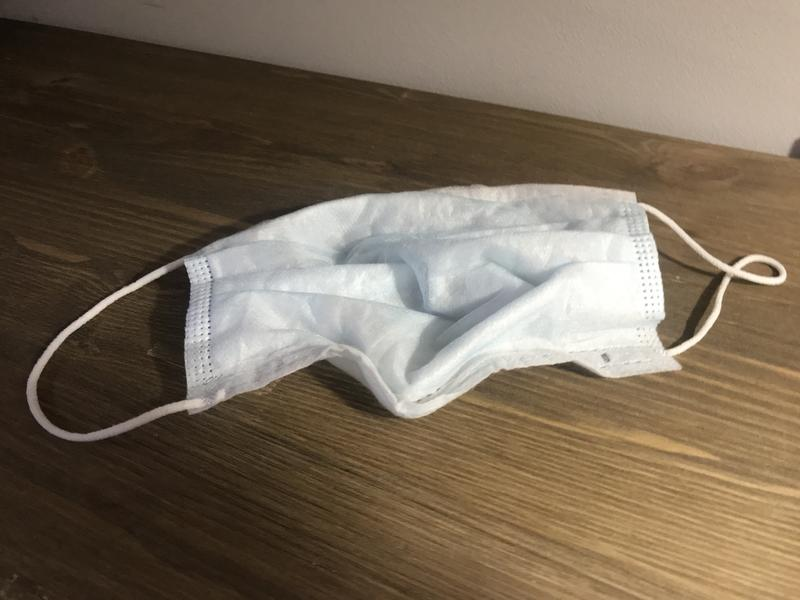medical_mask: (26, 183, 787, 445)
